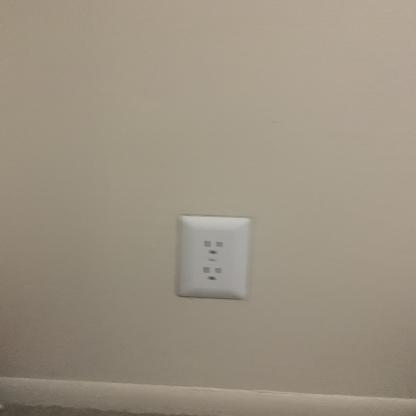OUTLET: (178, 214, 248, 298)
